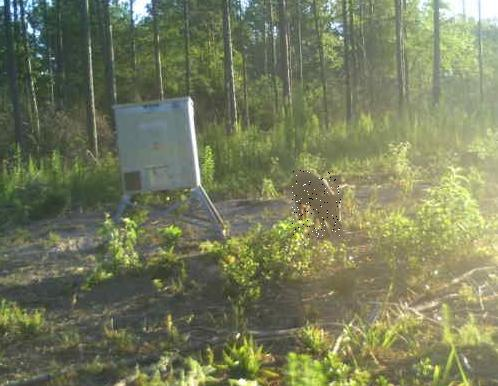Hog: (291, 171, 341, 238)
